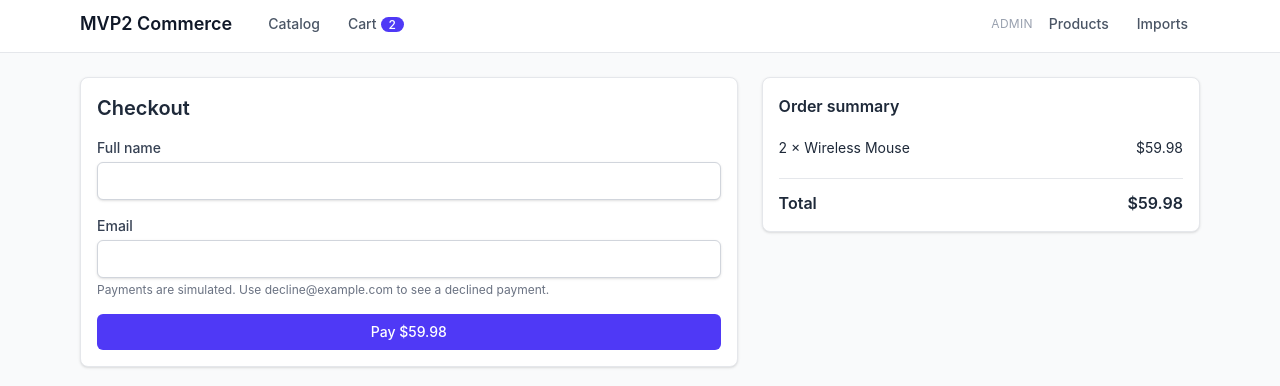
Scenario: checkout › pays with an idempotency key and the total the customer saw, then shows the order
Type "Ada Lovelace" into the field labelled "Full name".
click(409, 181); type("Ada Lovelace")  # box [97,162,721,200]
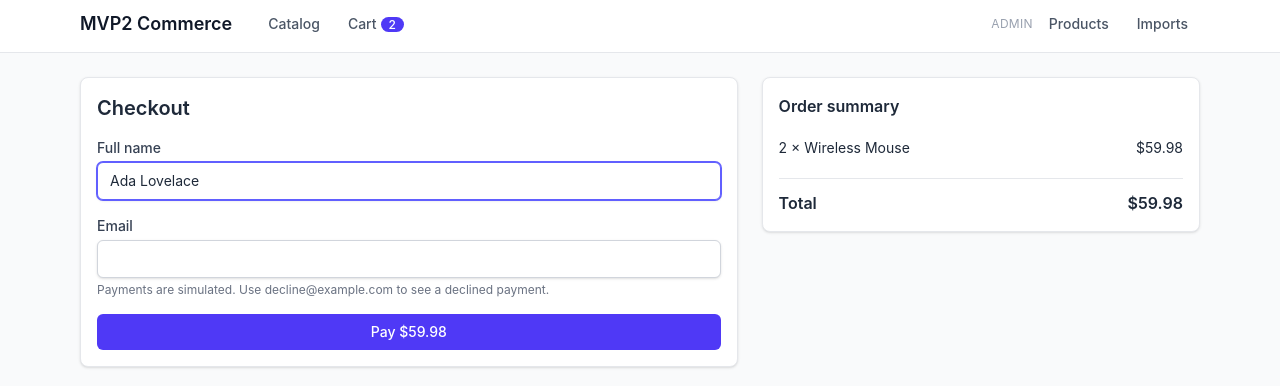
Type "ada@example.com" into the field labelled "Email".
click(409, 259); type("ada@example.com")  # box [97,240,721,278]
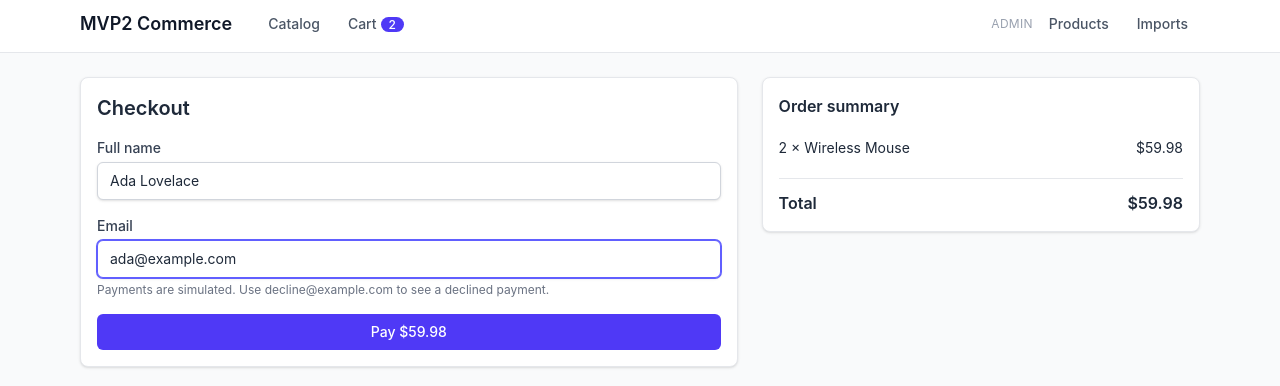
Click the button "Pay $59.98".
click(409, 332)  # box [97,314,721,350]
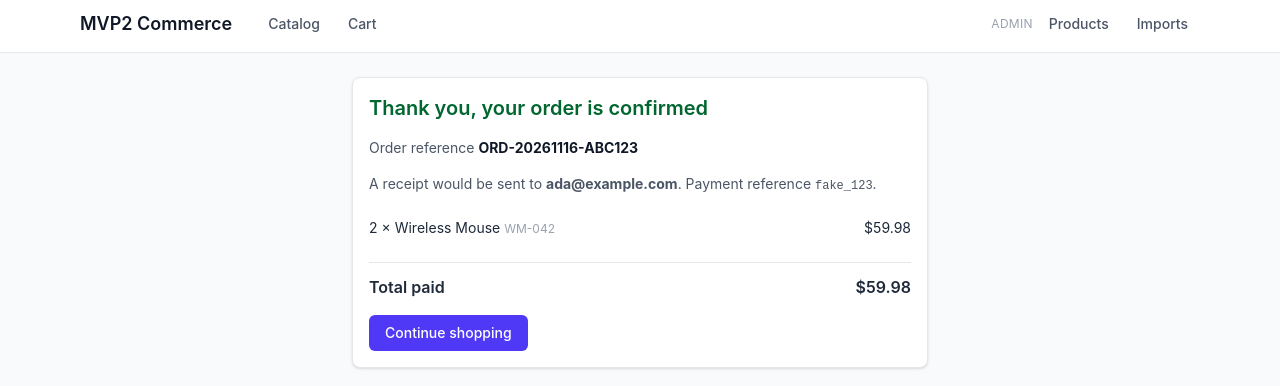
Expected: the text "ORD-20261116-ABC123" is shown, [478,139,638,156]
